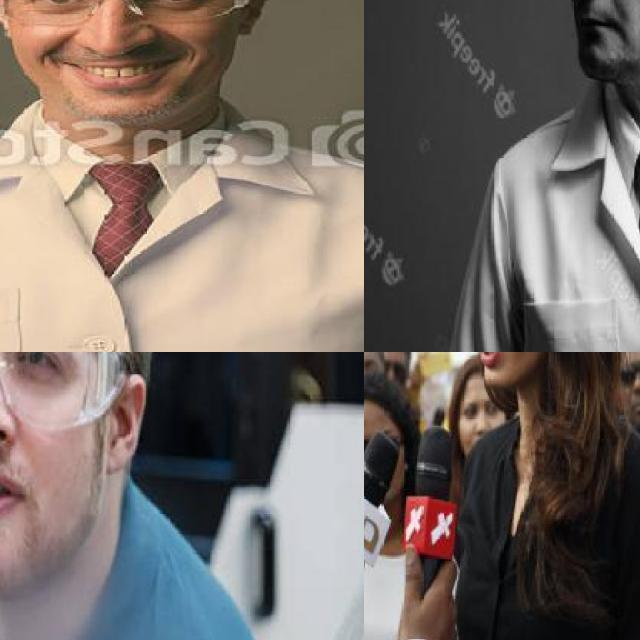No_Ear-Protection: (92, 368, 152, 472)
face_nomask: (17, 0, 231, 95), (0, 352, 77, 534), (549, 0, 640, 56), (455, 352, 535, 381), (617, 359, 640, 421)
glasses: (434, 352, 640, 640), (0, 352, 124, 434), (0, 0, 265, 31), (614, 355, 640, 392)
hand_noglove: (389, 543, 474, 640)
head_nohelmet: (364, 365, 411, 427)
person: (0, 0, 364, 352), (434, 0, 640, 352), (0, 352, 246, 640)
